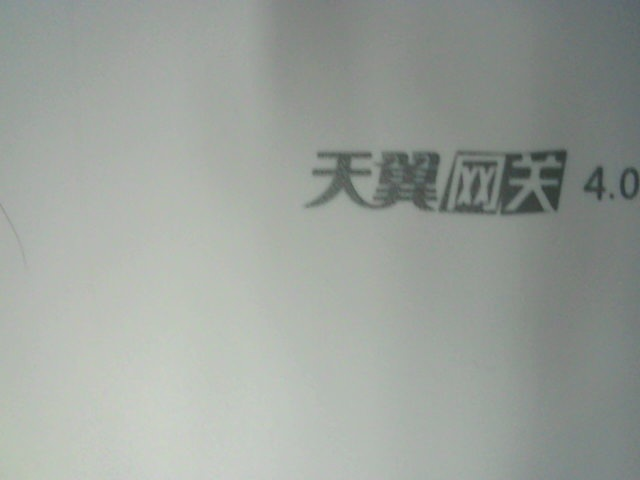BM_TianYiWangGuan: (304, 139, 639, 221)
